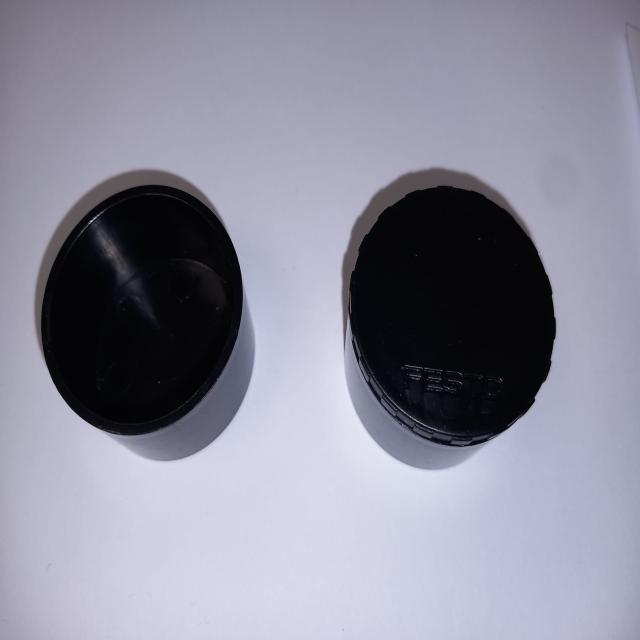NoLid: (29, 155, 260, 493)
Workpiece: (328, 169, 568, 482)
